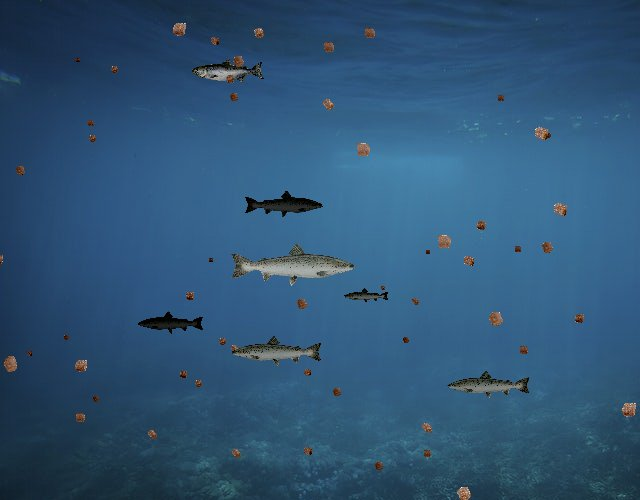Fish: (228, 241, 357, 287), (231, 335, 325, 369), (446, 369, 532, 400), (243, 189, 324, 218), (192, 59, 265, 85), (138, 311, 206, 335), (343, 287, 390, 304)
Pellet: (165, 15, 193, 43), (614, 394, 640, 424), (316, 92, 340, 116), (226, 49, 250, 73), (247, 22, 270, 45), (10, 161, 31, 182), (220, 69, 239, 88), (205, 31, 224, 50), (84, 130, 100, 146), (542, 129, 555, 142), (23, 347, 35, 359)
